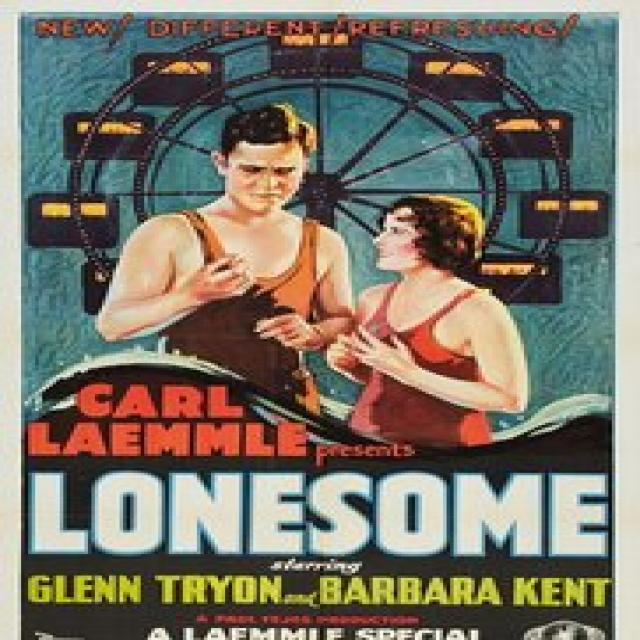movie-judul: (34, 467, 626, 569)
picture: (20, 43, 632, 394)
